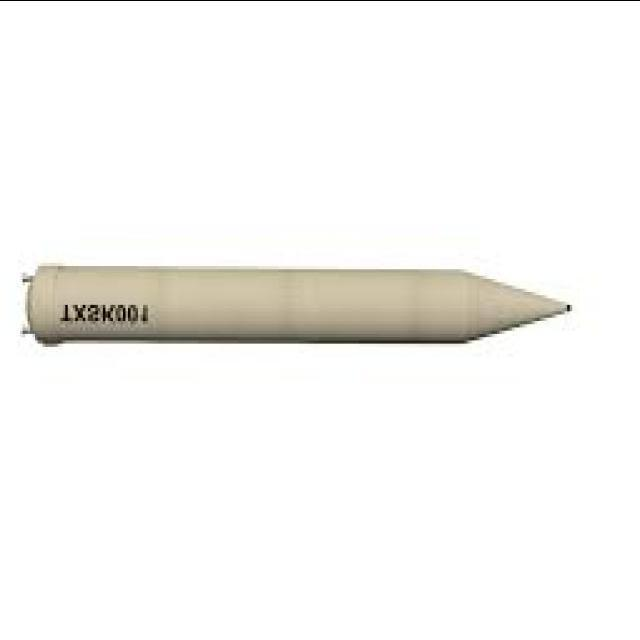missile: (11, 258, 572, 350)
